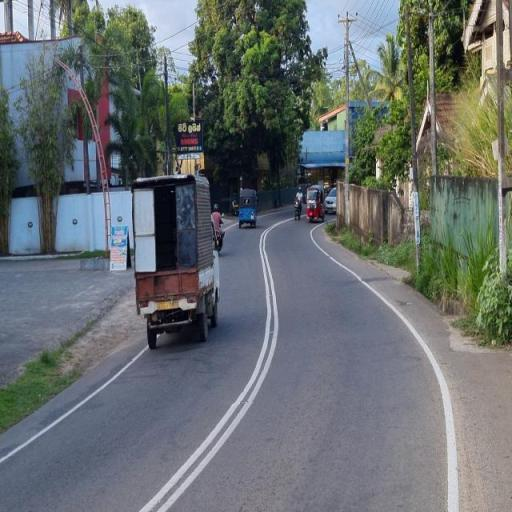double_white_line: (139, 218, 277, 510), (0, 340, 146, 466)
